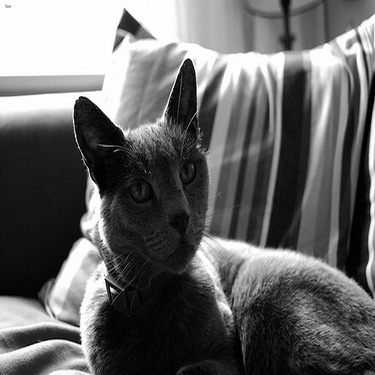cat: (72, 56, 372, 374)
